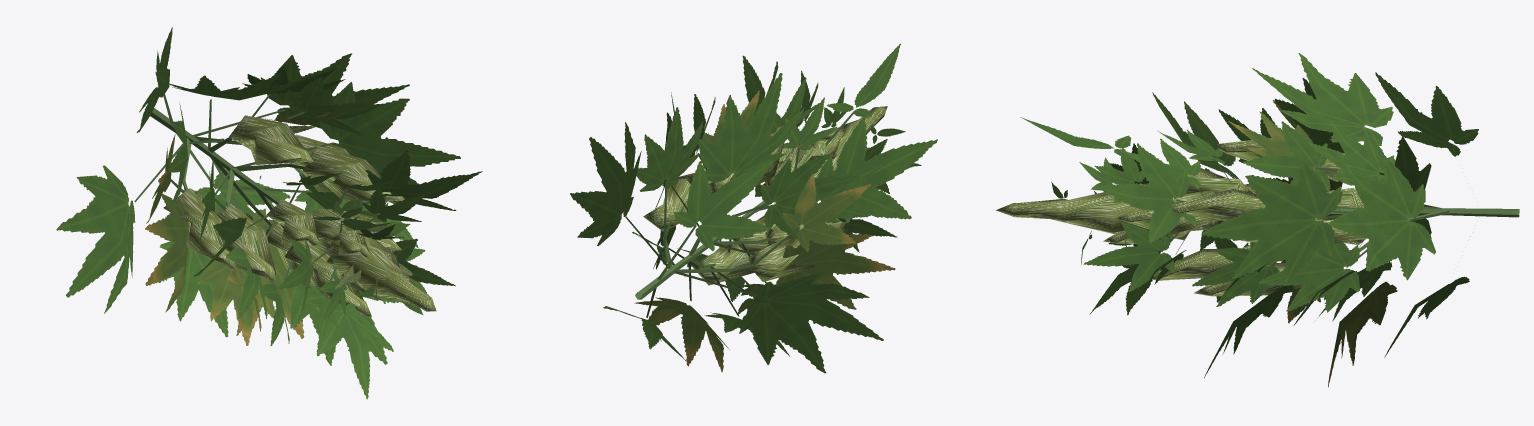
The model's file is p_tree_ripe_c0_cards.obj.
3 renders of one model, left to right at view 1: azimuth 30°, elevation 25°; view 2: azimuth 150°, elevation 25°; view 3: azimuth 270°, elevation 25°, orthographic. The views are drawn at different scales.
Bounding box in the file's own units: 1.57 × 1.33 × 1.81.
1 material, 1 textured.
